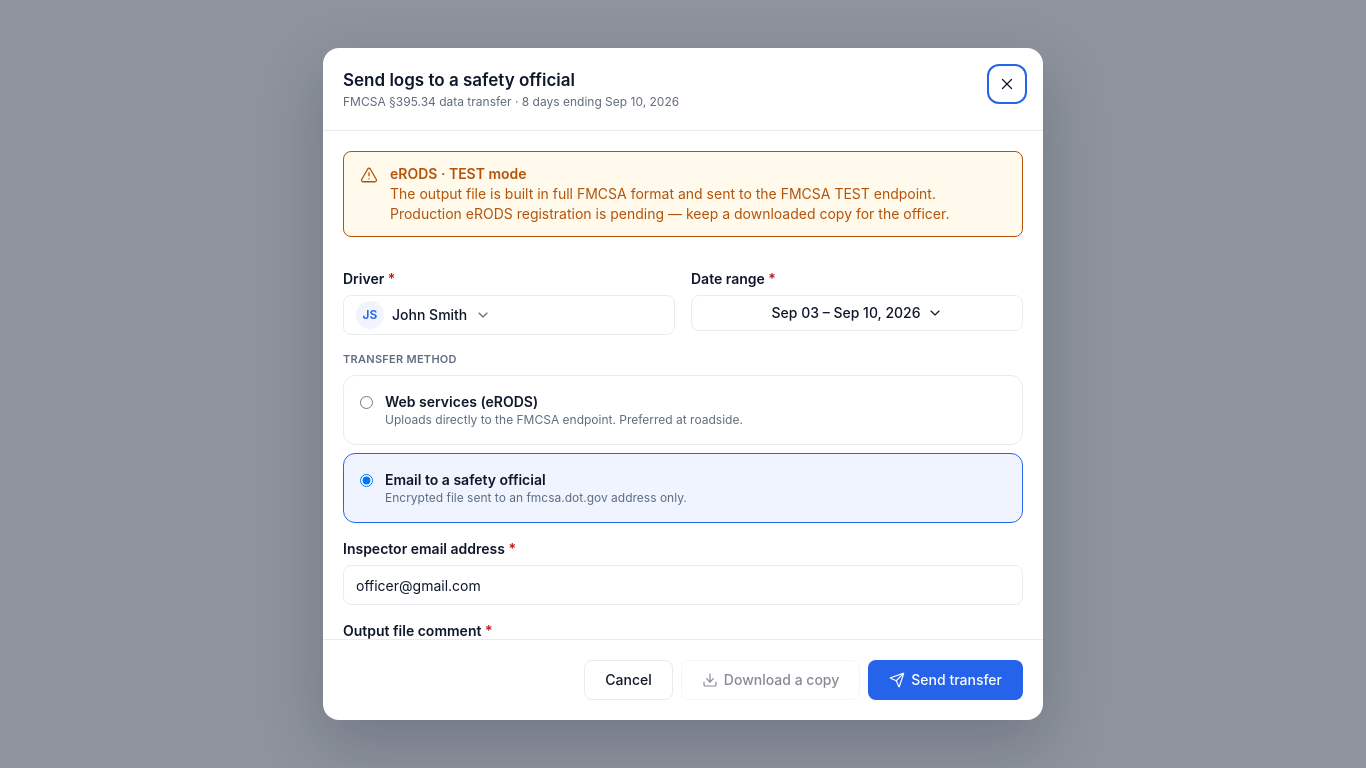
Scenario: 11.14 Send logs to a safety official › never sends an email transfer to a non-fmcsa.dot.gov address
Check: the field labelled "Inspector email address *" holds "officer@gmail.com", box [343,565,1023,605]
What coordinates should you click on to do the following:
click the button "Send transfer"
I would click on:
 (946, 680)
Its box is [868,660,1023,700].
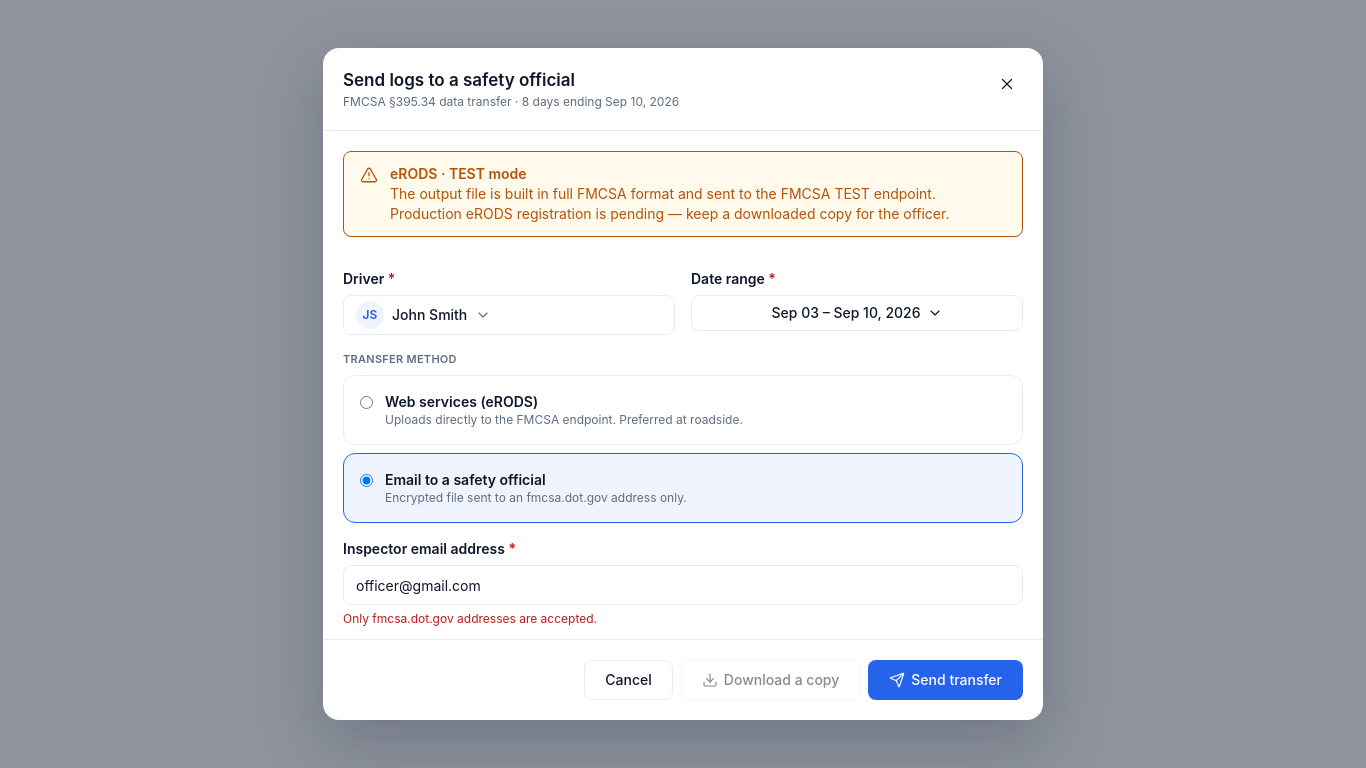
Check: the text "Only fmcsa.dot.gov addresses are accepted." is shown, box [343,611,597,626]
